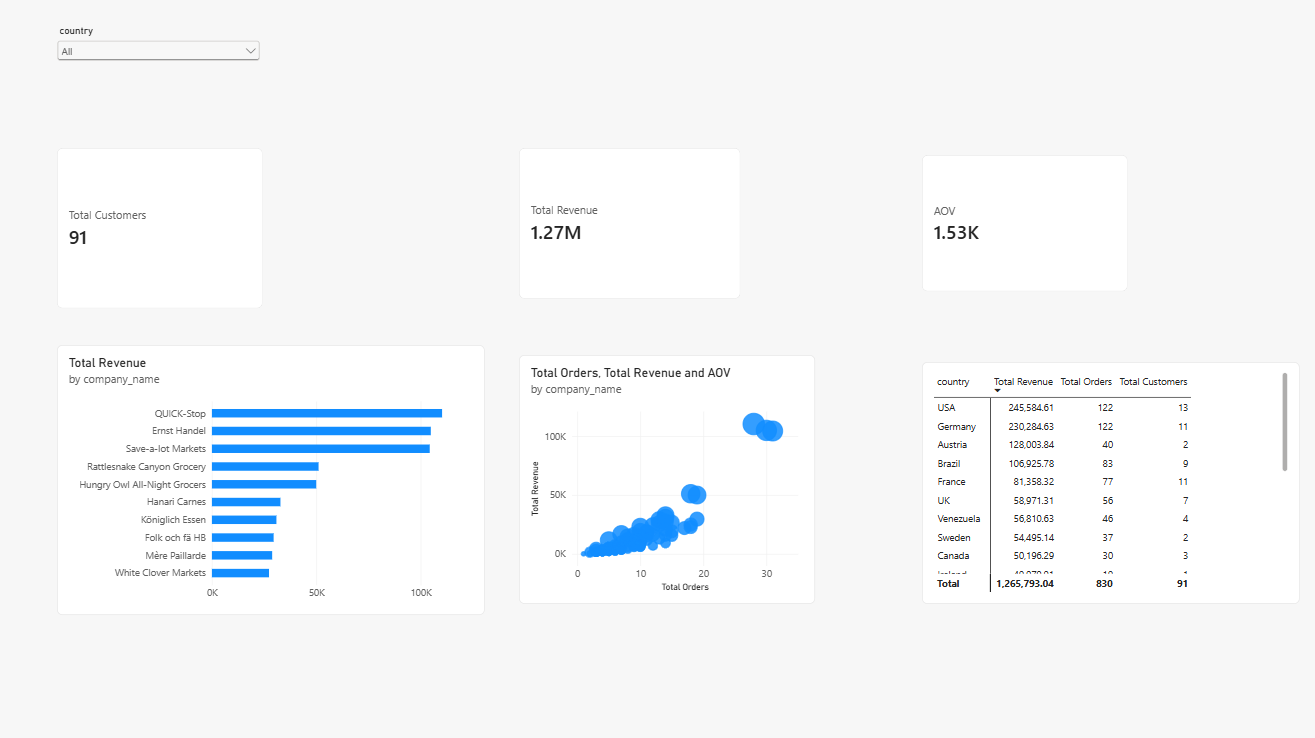

This screenshot's page, from the dashboard's own definition file:
{"tool":"powerbi","page":{"name":"Customer Analysis","canvas":[1920,1080],"ordinal":2},"visuals":[{"type":"cardVisual","fields":{"Data":["_Measures.Total Customers"]},"box":[83.2,217.4,300.5,234.9],"z":0},{"type":"clusteredBarChart","fields":{"Category":["public customers.company_name"],"Y":["_Measures.Total Revenue"]},"box":[83.2,504.8,624.4,393.9],"z":1000},{"type":"slicer","fields":{"Values":["public customers.country"]},"box":[78.8,37.9,304.9,112.3],"z":2000},{"type":"pivotTable","fields":{"Rows":["public customers.country"],"Values":["_Measures.Total Revenue","_Measures.Total Orders","_Measures.Total Customers"]},"box":[1345.2,529.6,551.5,353.1],"z":3000},{"type":"scatterChart","fields":{"Category":["public customers.company_name"],"Size":["_Measures.AOV"],"X":["_Measures.Total Orders"],"Y":["_Measures.Total Revenue"]},"box":[757.2,519.4,431.9,363.3],"z":4000},{"type":"cardVisual","fields":{"Data":["public order_details.Total Revenue"]},"box":[757.2,217.4,323.9,220.3],"z":5000},{"type":"cardVisual","fields":{"Data":["_Measures.AOV"]},"box":[1345.2,227.6,300.5,199.9],"z":6000}]}

Visuals, with their boxes in screenshot pixels (x1, y1, x2, y2), scaled from the page's 1920x1080 canvas onto the 1315x738 screenshot:
cardVisual - _Measures.Total Customers: <bbox>57, 149, 263, 309</bbox>
clusteredBarChart - public customers.company_name x _Measures.Total Revenue: <bbox>57, 345, 485, 614</bbox>
slicer - public customers.country: <bbox>54, 26, 263, 103</bbox>
pivotTable - public customers.country x _Measures.Total Revenue: <bbox>921, 362, 1299, 603</bbox>
scatterChart - public customers.company_name x _Measures.AOV: <bbox>519, 355, 814, 603</bbox>
cardVisual - public order_details.Total Revenue: <bbox>519, 149, 740, 299</bbox>
cardVisual - _Measures.AOV: <bbox>921, 156, 1127, 292</bbox>
